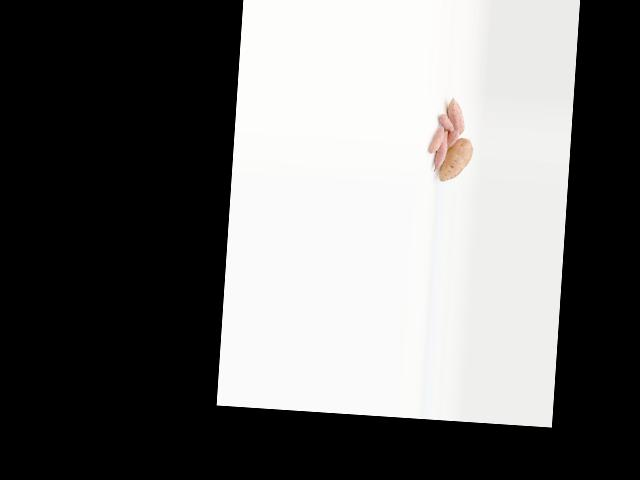sweet_potato: (446, 96, 466, 134)
